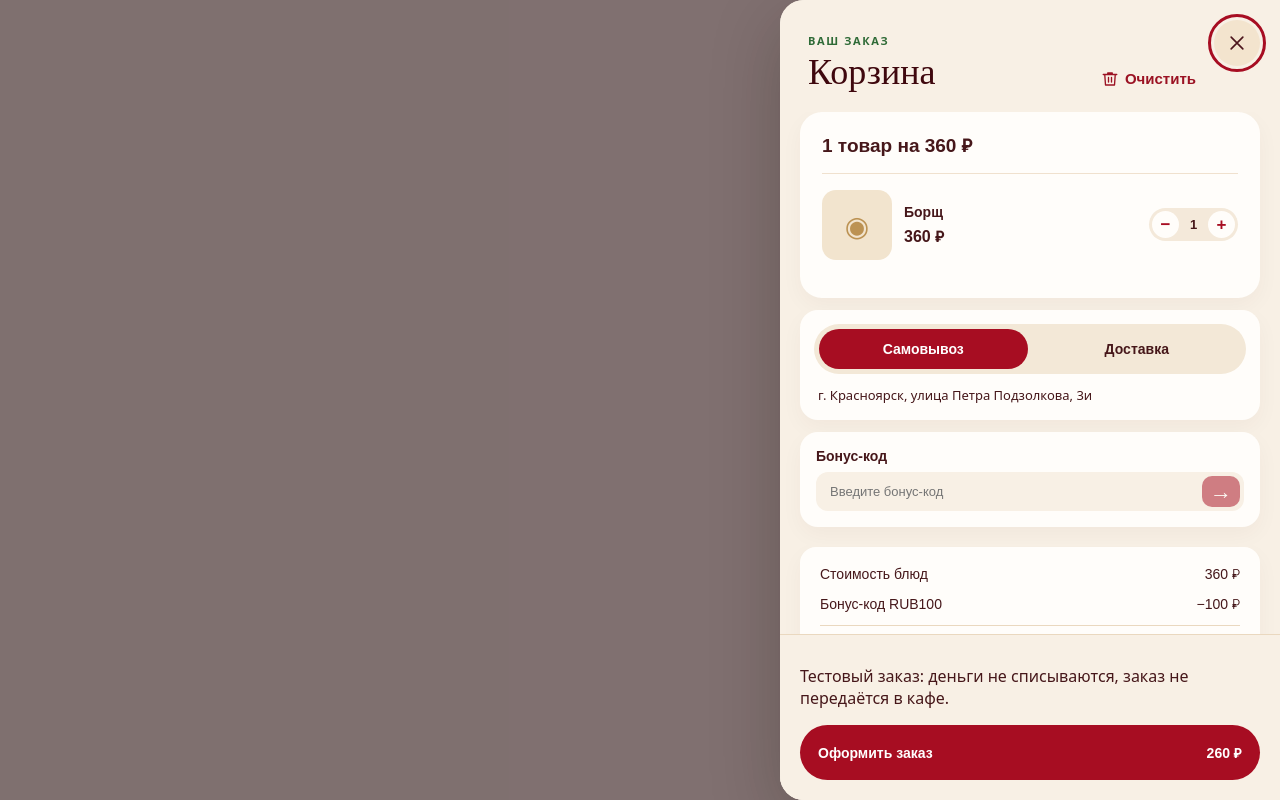
Test: применяет бонус-код через серверный расчёт заказа
Type "rub100" into the field with placeholder "Введите бонус-код" at (1011, 492), box [820,476,1202,507]
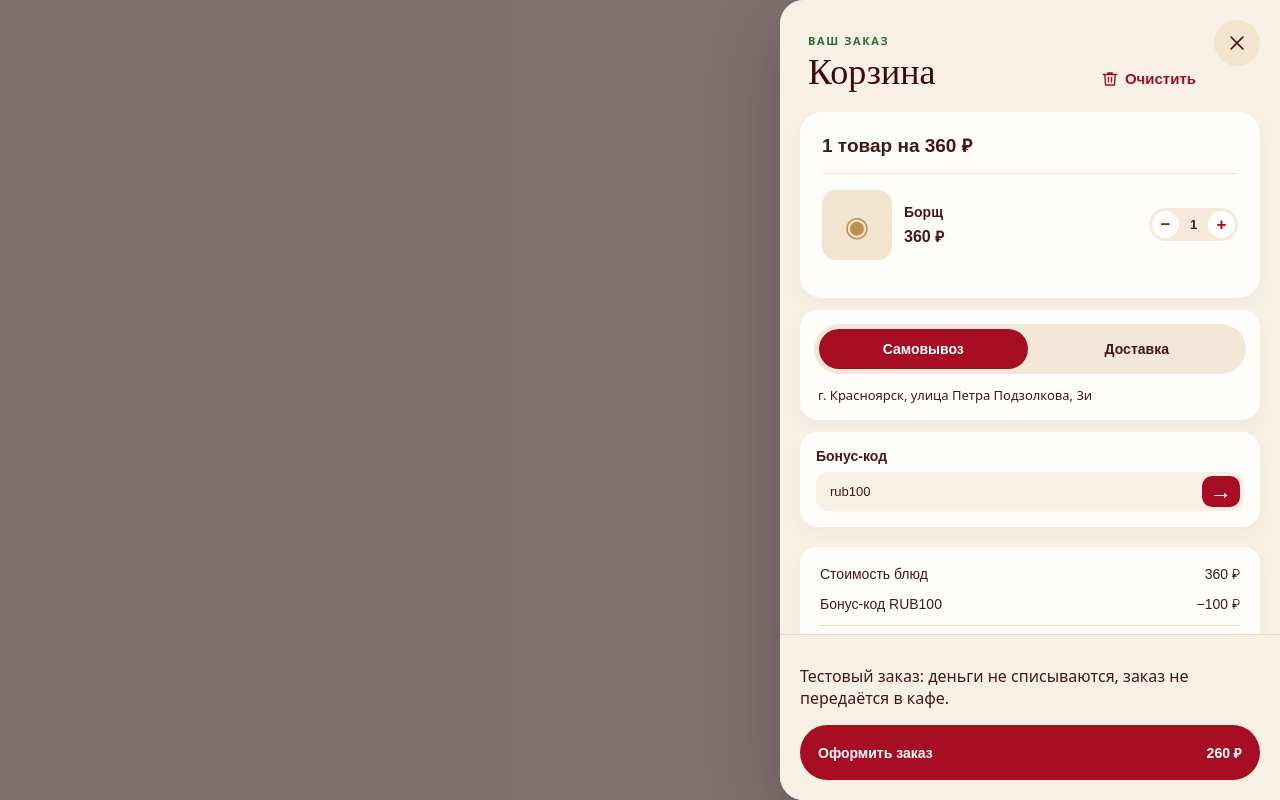
Click the button named "Применить бонус-код" at (1221, 492), box [1202,476,1240,507]
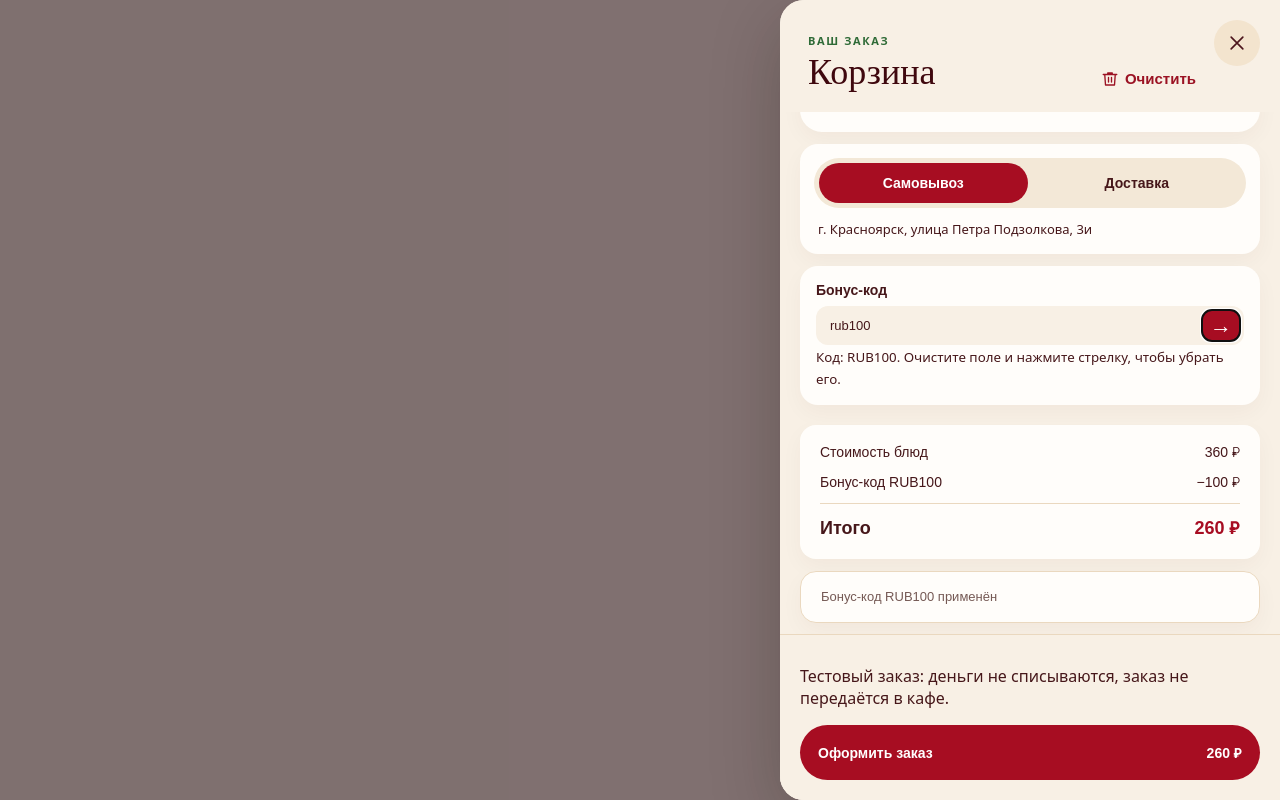
expect the text "Бонус-код RUB100 применён" is shown: met, box [800,571,1260,623]
expect the message named "Расчёт заказа" shows "Итого": met, box [820,518,871,538]
expect the message named "Расчёт заказа" shows "260 ₽": met, box [1194,518,1240,538]
